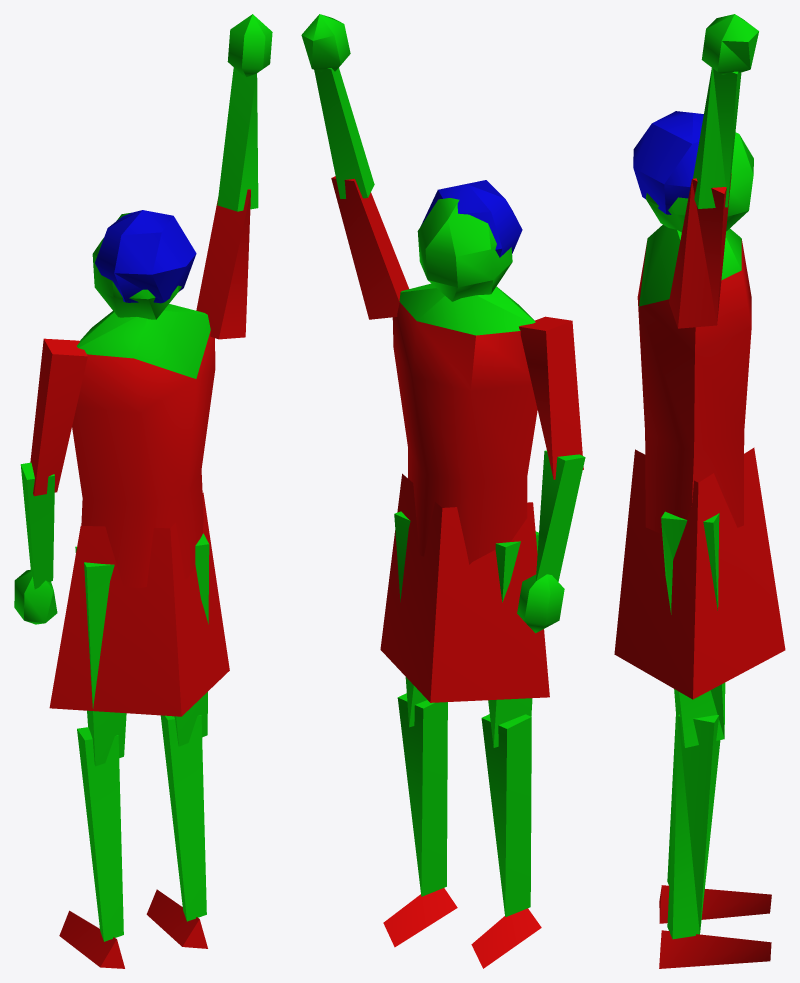
The model's file is stand_cheer_one_arm_lod1.glb.
3 renders of one model, left to right at view 1: azimuth 30°, elevation 25°; view 2: azimuth 150°, elevation 25°; view 3: azimuth 270°, elevation 25°, orthographic. The views are drawn at different scales.
Parts seen in each view (by area): view 1: OUT_1; view 2: OUT_1; view 3: OUT_1.
Part boxes in pixels (x1,y1,x2,y2): OUT_1: (14, 14, 272, 968); OUT_1: (301, 14, 585, 968); OUT_1: (614, 14, 785, 968).
Bounding box in the file's own units: 0.6231 × 2.05 × 0.319.
